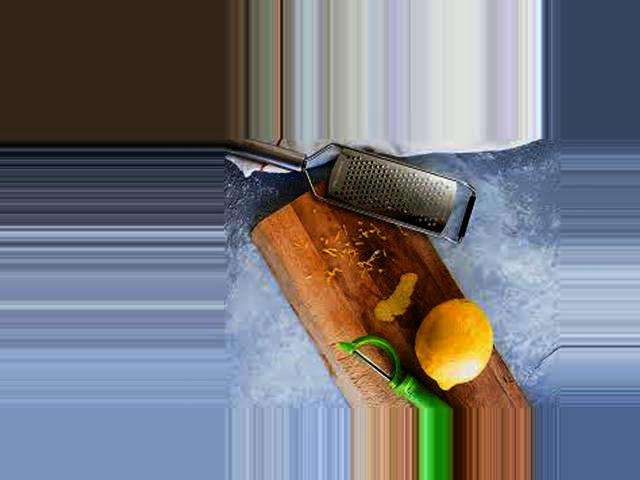lemon: (405, 282, 497, 399)
